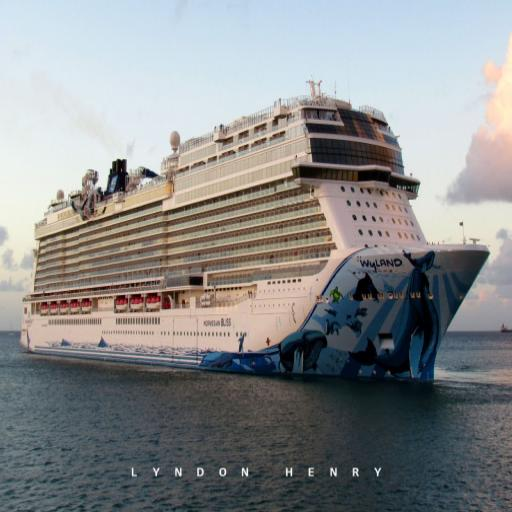cruises: (19, 73, 493, 401)
